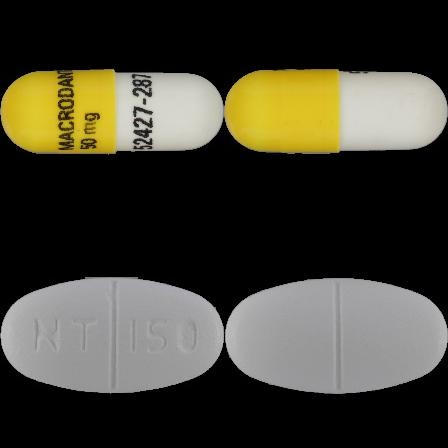55700-388: (0, 0, 224, 224)
